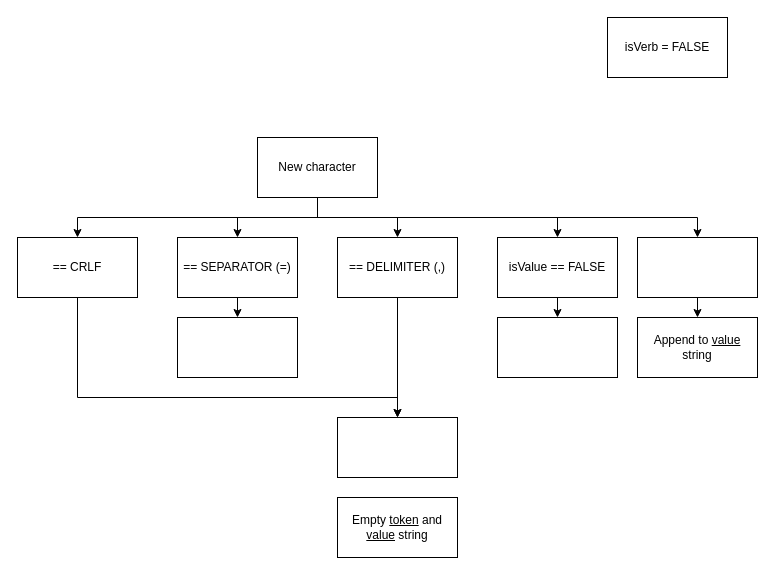
Some shapes in this 775 by 575 pixel diagram are drawn without their labels. Here are the shapes that lost their labels. From the top down, the box of each, then its label:
(636, 236, 758, 298): isValue == TRUE
(176, 316, 298, 378): isValue = TRUE
(496, 316, 618, 378): Append to token string
(336, 416, 458, 478): Process token and value string
